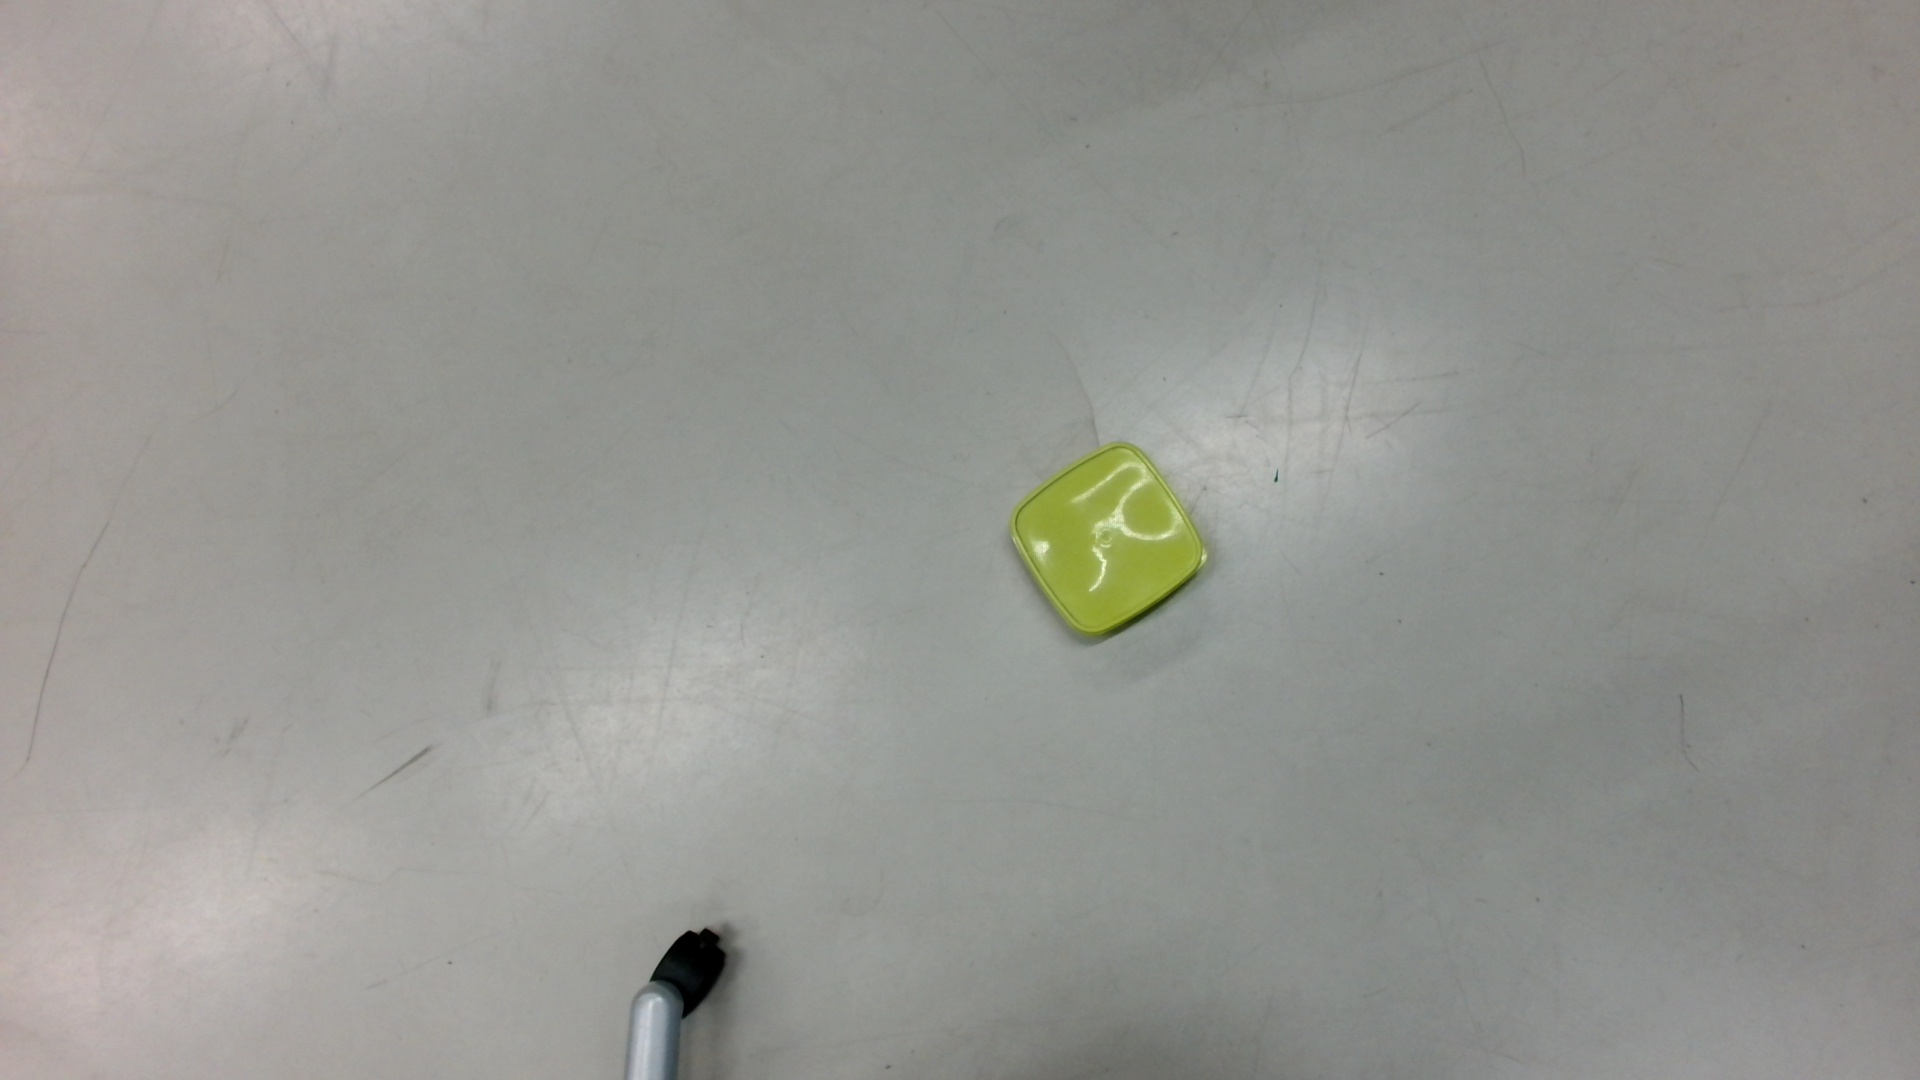Box: (1004, 438, 1216, 650)
